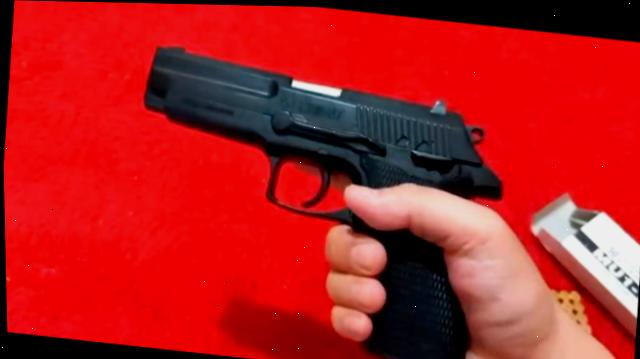pistol: (132, 33, 492, 200)
